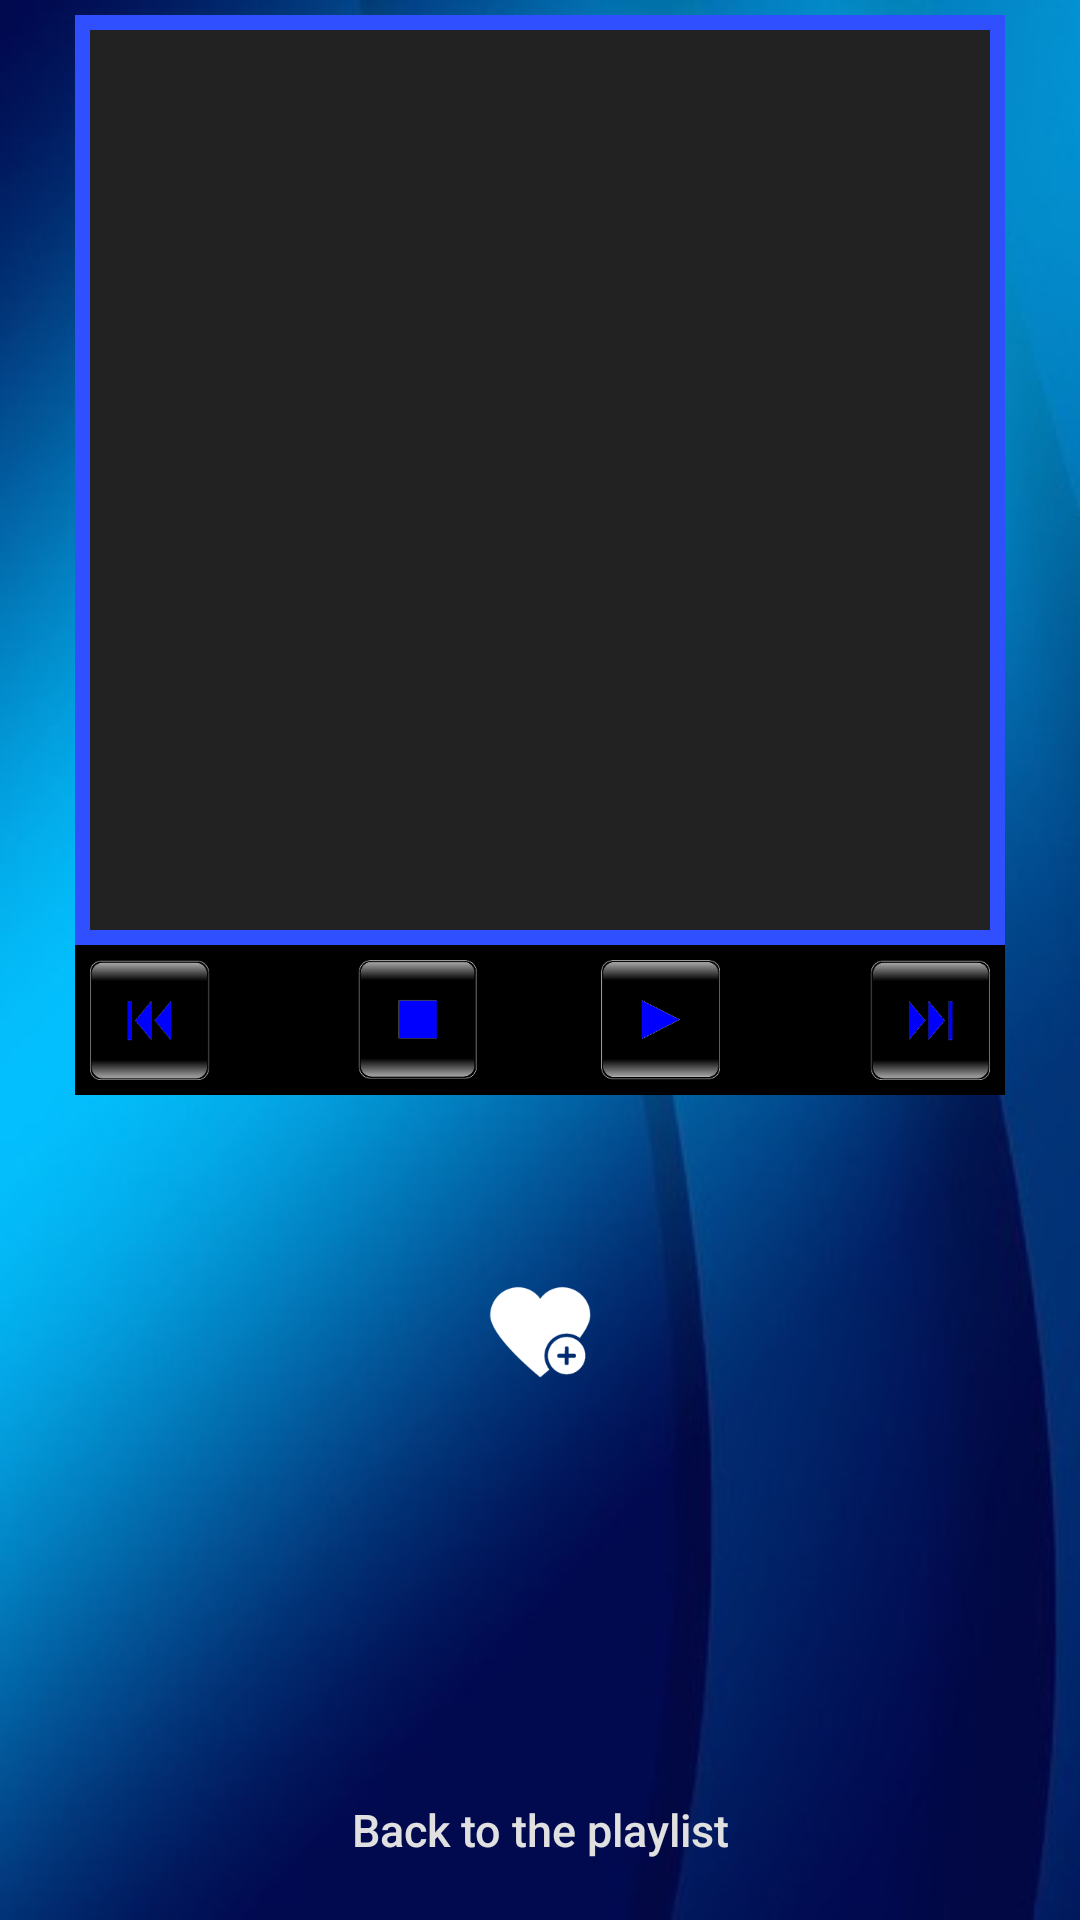

Locate icon controls on the screen. Image size 1080w x 1920h, boxes as {"left": x1, "top": y1, "right": x2, "bottom": y2}.
backward: {"left": 90, "top": 960, "right": 209, "bottom": 1080}
favoritewhite: {"left": 480, "top": 1267, "right": 591, "bottom": 1378}
forward: {"left": 871, "top": 960, "right": 990, "bottom": 1080}
play: {"left": 601, "top": 960, "right": 720, "bottom": 1080}
stop: {"left": 358, "top": 960, "right": 477, "bottom": 1079}
